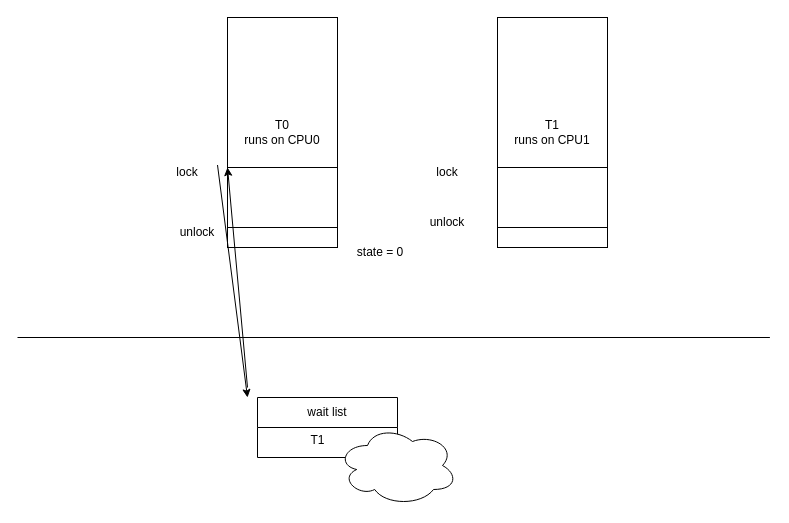
The diagram is 789 pixels wide and 523 high, and some of its shapes have lost their labels. The centre of each missing label's shape, as x and y in pixels:
t0 is here: the point at 282,197
Zzzzz: the point at 397,465
